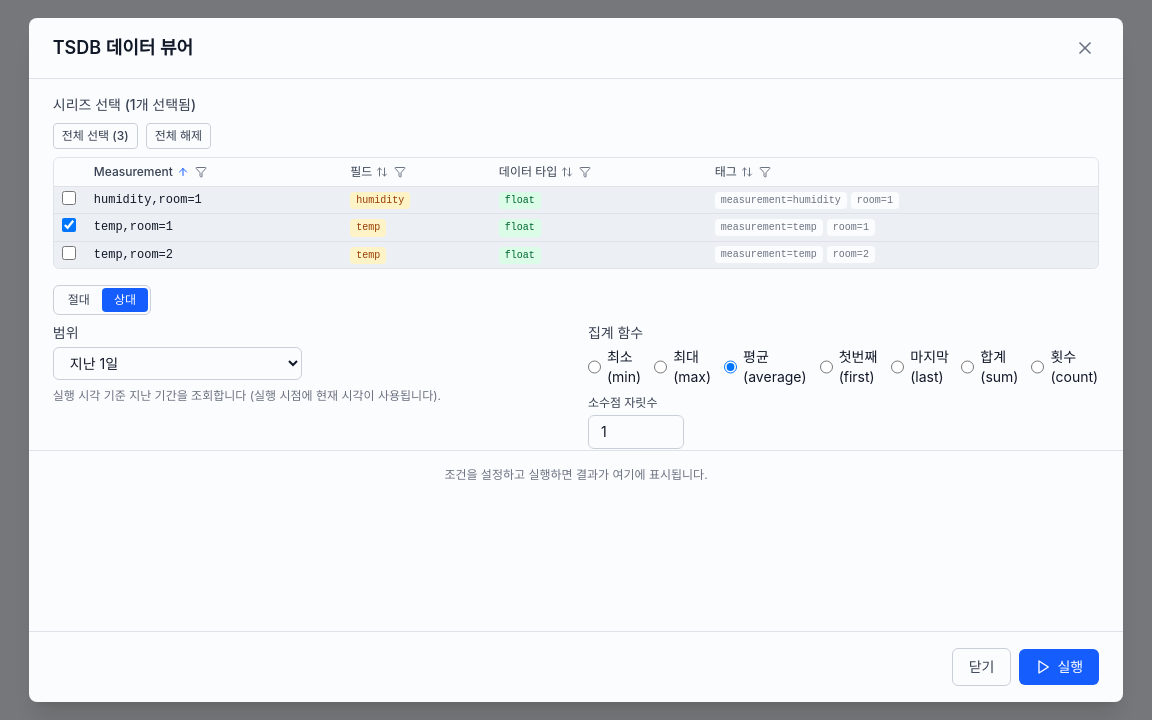
it: SeriesDataViewerModal › end <= start 이면 실행 버튼 비활성 + 에러 메시지 표시
Click the tab with test id "tsdb-range-mode-absolute" at (79, 300), box x1=56 y1=288 x2=102 y2=312
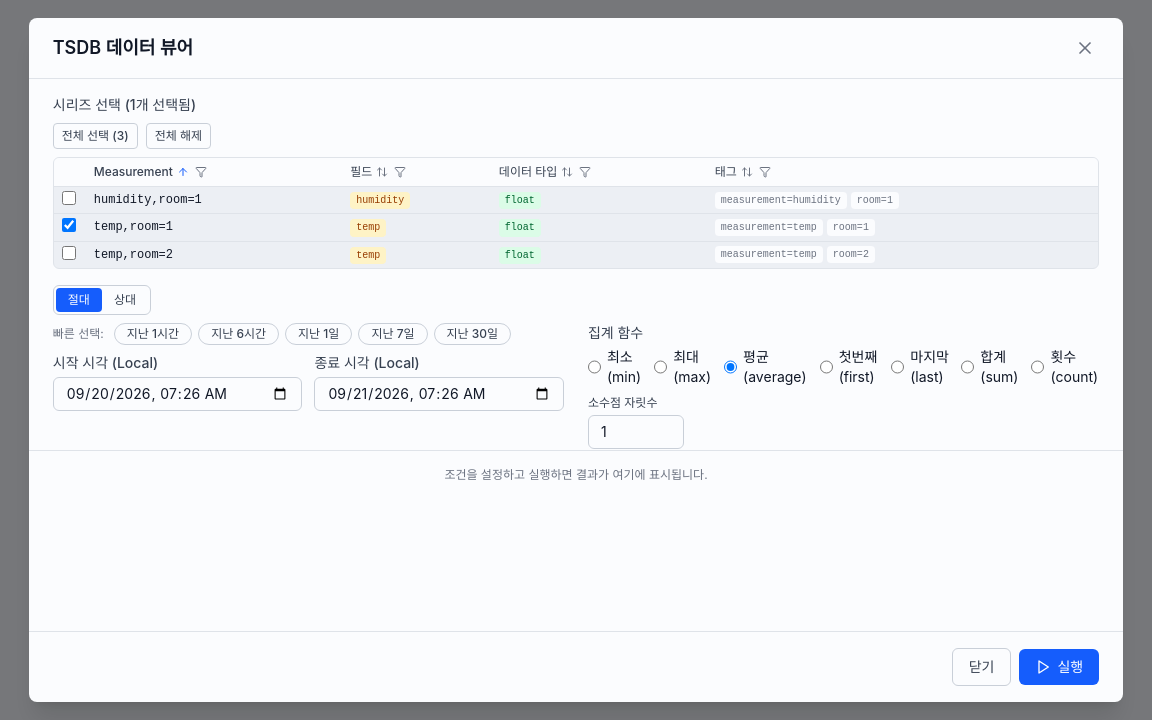
Replace the text in the field labelled "시작 시각 (Local)" with "2026-04-23T10:00" at (178, 394), box x1=53 y1=377 x2=302 y2=411
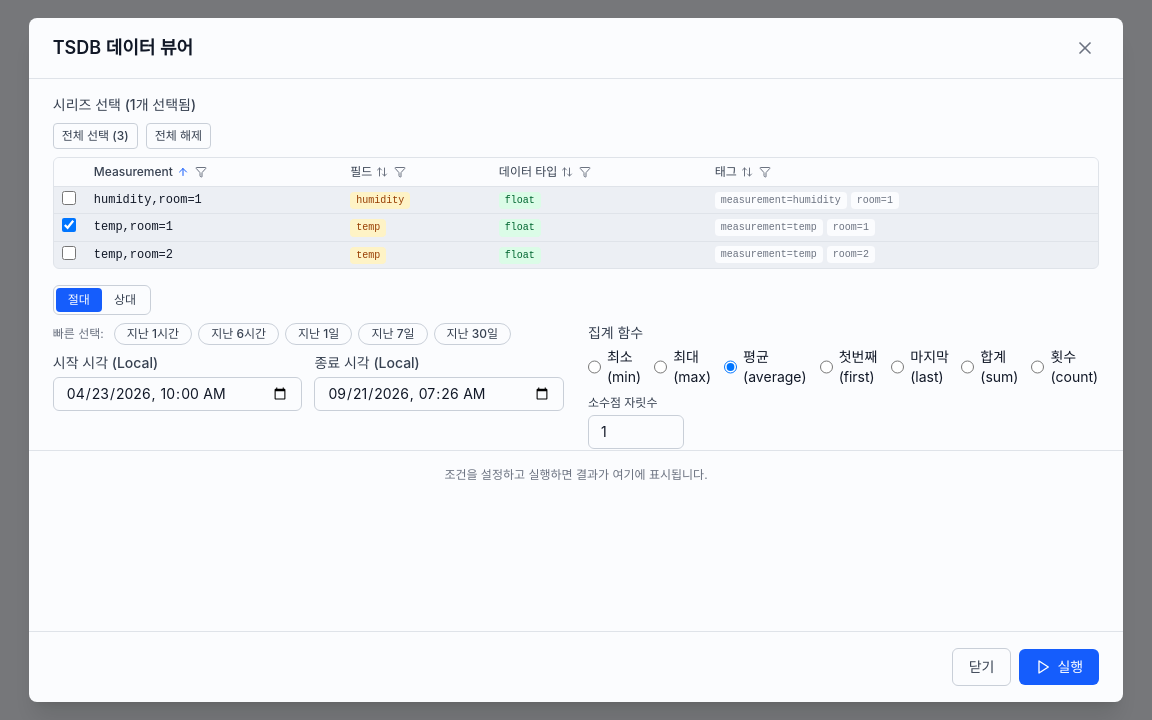
Replace the text in the field labelled "종료 시각 (Local)" with "2026-04-23T08:00" at (439, 394), box x1=314 y1=377 x2=564 y2=411
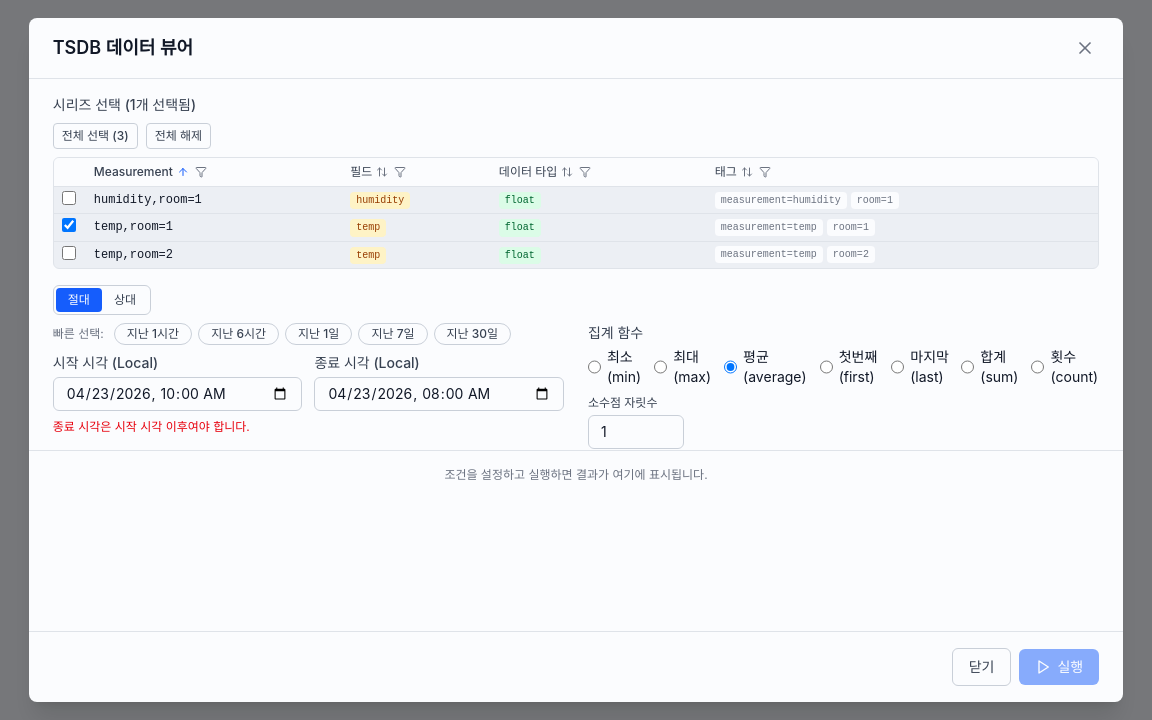
Result: the text "종료 시각은 시작 시각 이후여야 합니다." is shown at x1=53 y1=419 x2=250 y2=434
Result: the button "실행" is disabled at x1=1019 y1=649 x2=1099 y2=685
